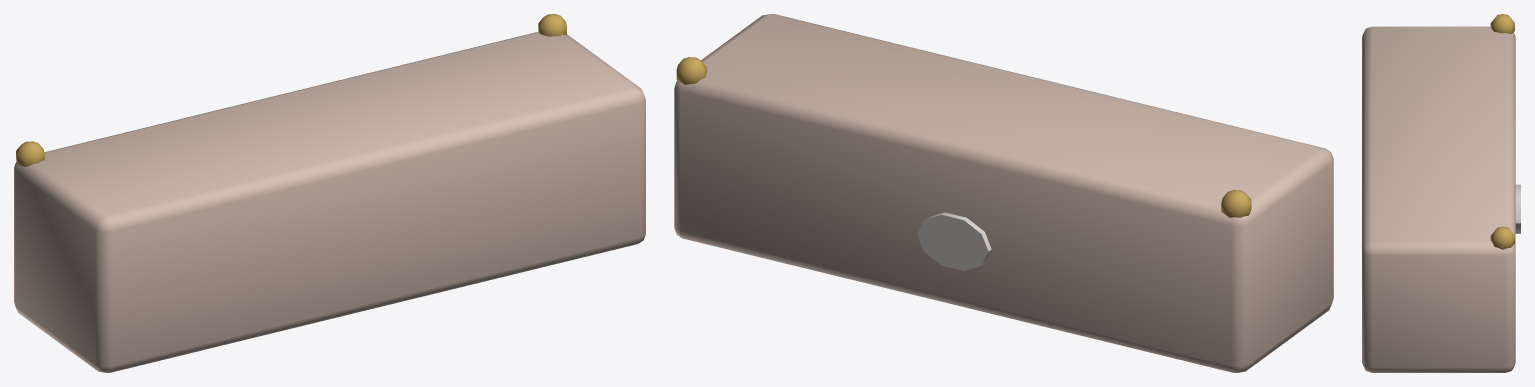
Rendered from water_trough.glb.
3 renders of one model, left to right at view 1: azimuth 30°, elevation 25°; view 2: azimuth 150°, elevation 25°; view 3: azimuth 270°, elevation 25°, orthographic. The views are drawn at different scales.
Parts seen in each view (by area): view 1: water_trough; view 2: water_trough; view 3: water_trough.
Boxes of the visible parts, x1,y1,x2,y2 form: water_trough: (14, 14, 645, 372); water_trough: (674, 14, 1333, 372); water_trough: (1362, 14, 1520, 372).
Size of what is drawn, in the model's own units: 2 by 0.6 by 0.6.
